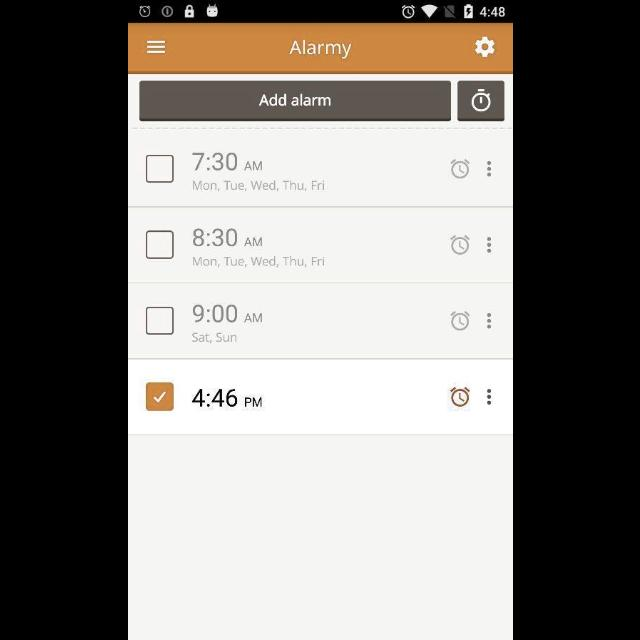checkbox: (145, 383, 173, 411), (145, 231, 173, 259), (145, 155, 173, 183), (145, 308, 173, 334)
icon: (458, 82, 504, 122), (449, 310, 469, 332), (449, 234, 469, 256), (474, 37, 494, 59), (449, 387, 469, 408), (449, 159, 468, 179), (146, 40, 166, 54), (486, 388, 492, 406), (486, 236, 492, 254), (486, 312, 490, 330), (486, 160, 490, 178)
text: (192, 256, 324, 268), (192, 180, 324, 192), (288, 40, 352, 60), (191, 388, 237, 408), (192, 228, 238, 248), (191, 152, 237, 172), (192, 304, 236, 324), (191, 332, 237, 344), (244, 312, 262, 324), (244, 397, 262, 407), (244, 237, 262, 247), (244, 162, 262, 172)
textbutton: (139, 80, 451, 121)
toolbar: (128, 24, 512, 74)
uppertaskbar: (128, 1, 512, 23)
